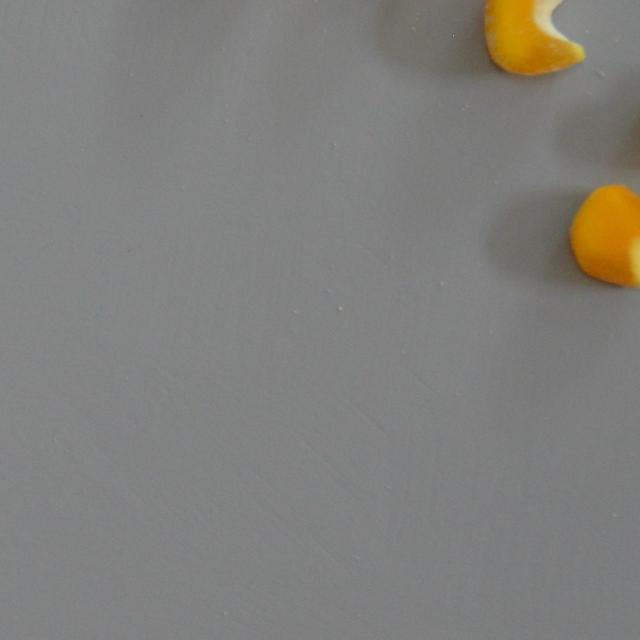no_canjicado: (567, 183, 640, 290)
pelicula: (480, 0, 587, 76)
